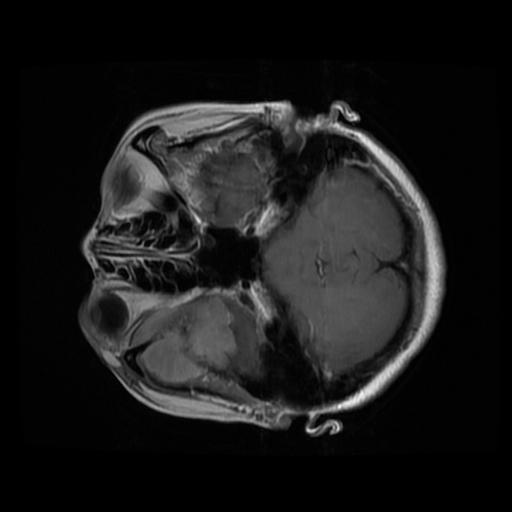meningioma: (131, 297, 237, 384)
